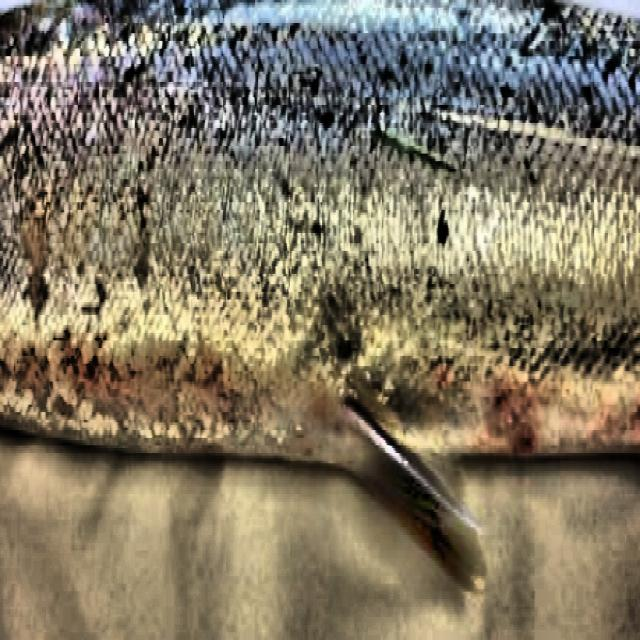mild_red: (0, 0, 639, 453)
